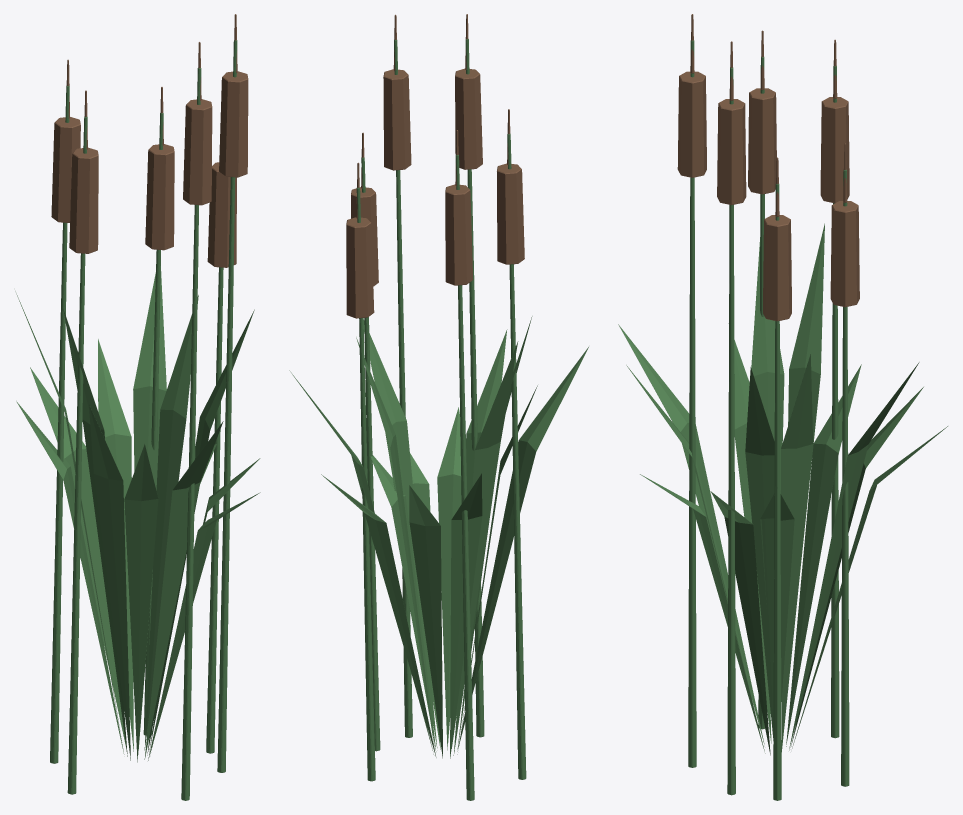
File: b08_cattail_cluster.glb
3 views of the same model, side by side, from view 1: azimuth 30°, elevation 25°; view 2: azimuth 150°, elevation 25°; view 3: azimuth 270°, elevation 25° (orthographic). The views are drawn at different scales.
Visible parts, largest first — view 1: b08_cattail_cluster; view 2: b08_cattail_cluster; view 3: b08_cattail_cluster.
Part boxes in pixels (box(x1,y1,x2,y2)): b08_cattail_cluster: box(15, 14, 260, 800); b08_cattail_cluster: box(289, 14, 588, 800); b08_cattail_cluster: box(618, 14, 947, 800).
Size of the model in its own units: 0.5828 by 2.06 by 0.8139.
